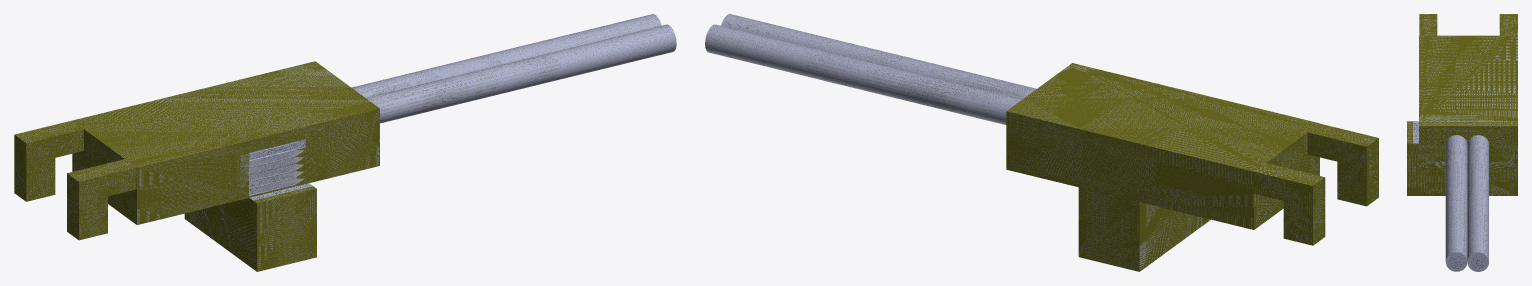
File: Gun.fbx
3 renders of one model, left to right at view 1: azimuth 30°, elevation 25°; view 2: azimuth 150°, elevation 25°; view 3: azimuth 270°, elevation 25°, orthographic. The views are drawn at different scales.
Parts seen in each view (by area): view 1: Model; view 2: Model; view 3: Model.
Part boxes in pixels (bbox=[...]): Model: bbox=[14, 14, 676, 271]; Model: bbox=[705, 14, 1378, 271]; Model: bbox=[1407, 14, 1517, 271].
Size of the model in its own units: 9.86 by 1.92 by 2.01.
